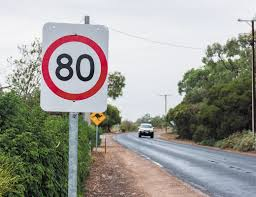Speed_limit_80km: (41, 34, 109, 101)
